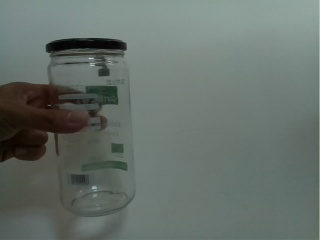pote cristal: (43, 36, 141, 220)
